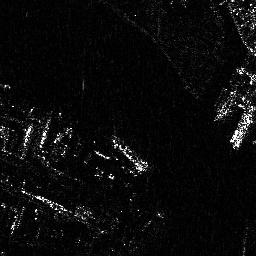ship: (111, 134, 148, 173), (232, 113, 252, 150)
